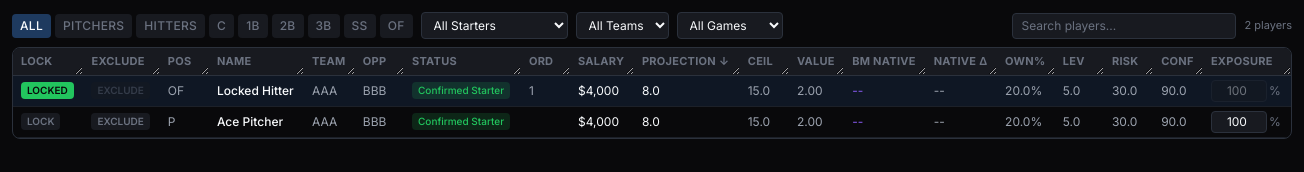
Test: PoolTable › filtering never mutates locks or exclusions -- switching tabs and back preserves them
Click the button "Pitchers" at (94, 26), box 55,14 -> 132,38
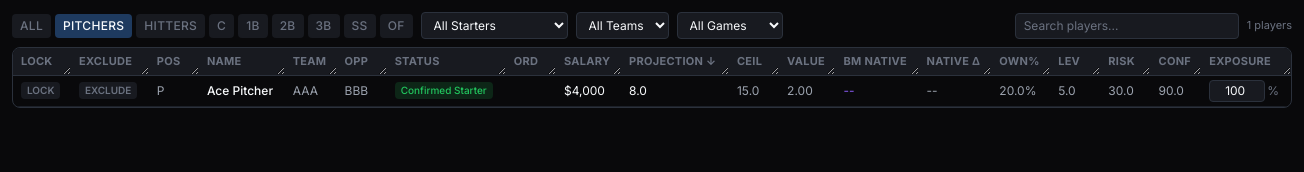
Now the button "Locked Hitter" is gone
Click the button "ALL" at (32, 26), box 12,14 -> 51,38
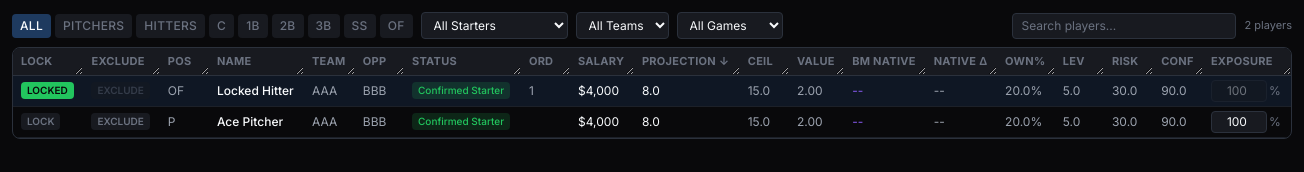
Now the button "Locked Hitter" is shown, box 217,83 -> 294,99
Now the button with aria-label "Unlock Locked Hitter" is shown, box 21,82 -> 74,99
